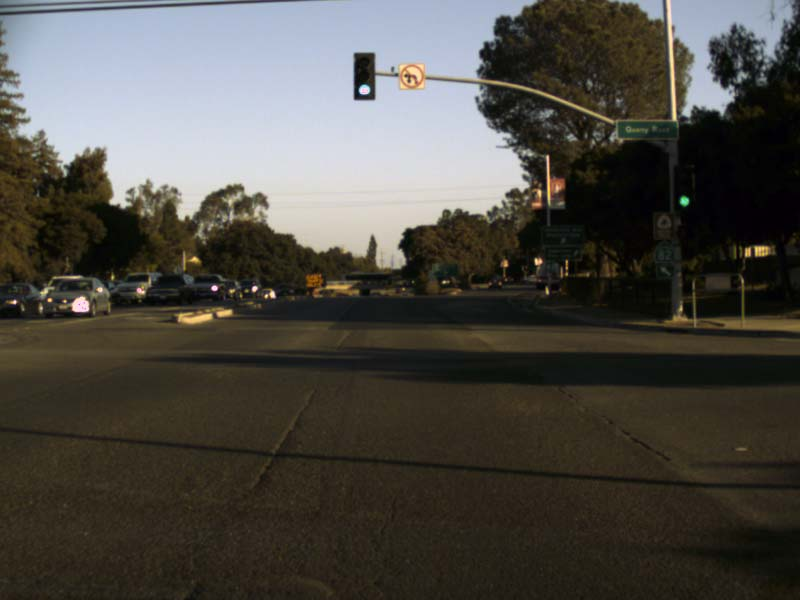Green: (353, 52, 375, 99), (673, 165, 692, 209)
